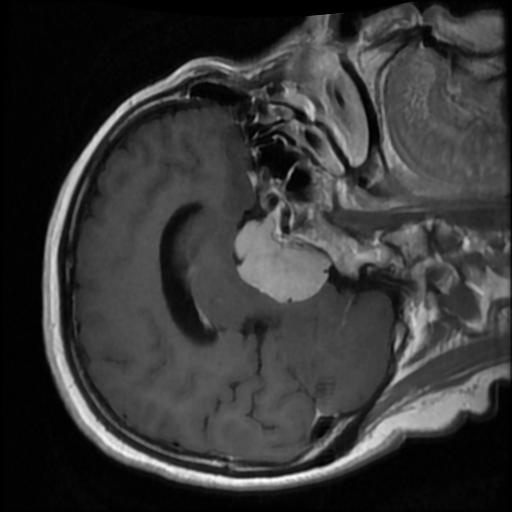meningioma: (234, 219, 330, 304)
